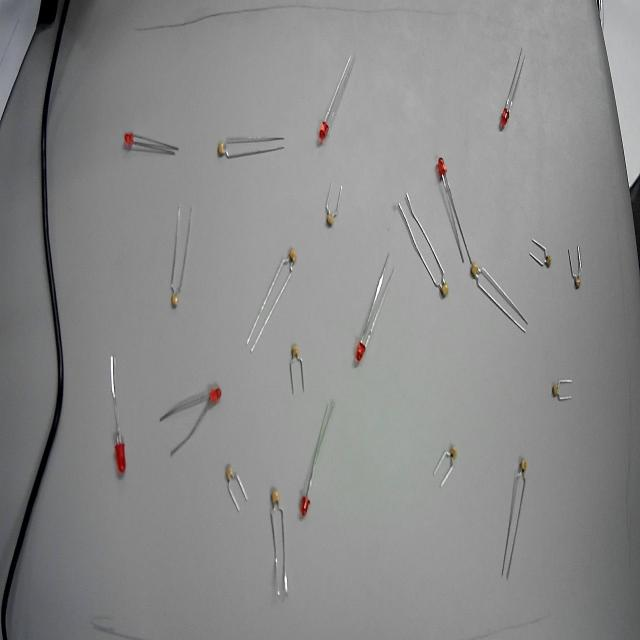LED_red: (105, 425, 130, 492), (428, 150, 459, 201), (346, 326, 370, 385), (193, 381, 236, 413), (290, 478, 315, 533), (494, 89, 516, 142), (314, 115, 341, 157), (115, 115, 142, 155)
capacitor: (269, 231, 299, 297), (207, 126, 248, 168), (282, 338, 310, 396), (559, 249, 591, 298), (426, 253, 452, 312), (218, 456, 249, 505), (167, 249, 188, 320), (528, 229, 555, 279), (260, 482, 282, 540), (444, 436, 470, 484), (549, 365, 571, 417), (321, 186, 341, 238), (464, 253, 488, 296), (508, 452, 530, 498)
